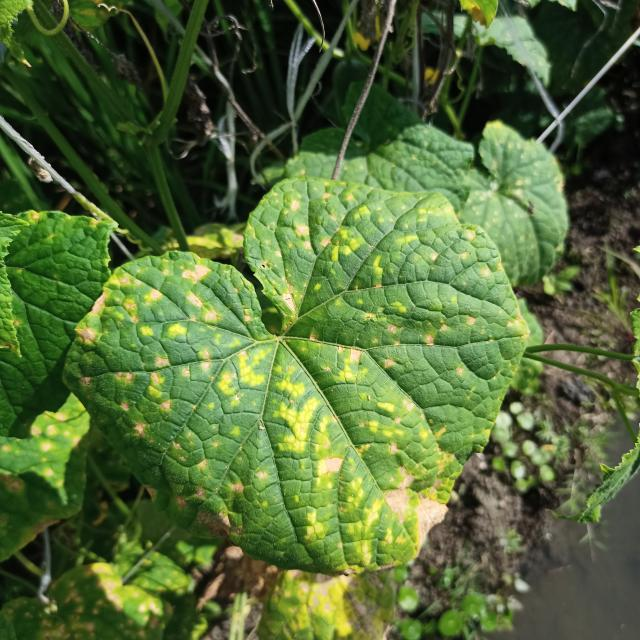disease_cucumber: (82, 189, 504, 566)
